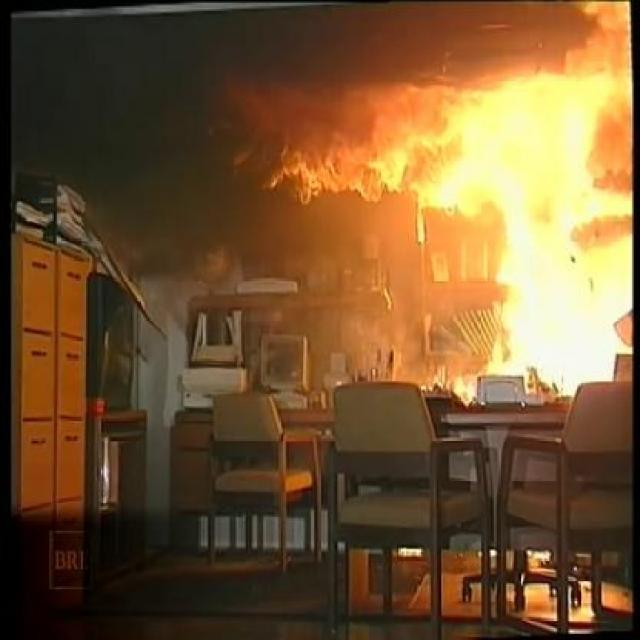fire: (470, 84, 619, 370), (238, 88, 454, 194)
smoke: (298, 216, 429, 342)
